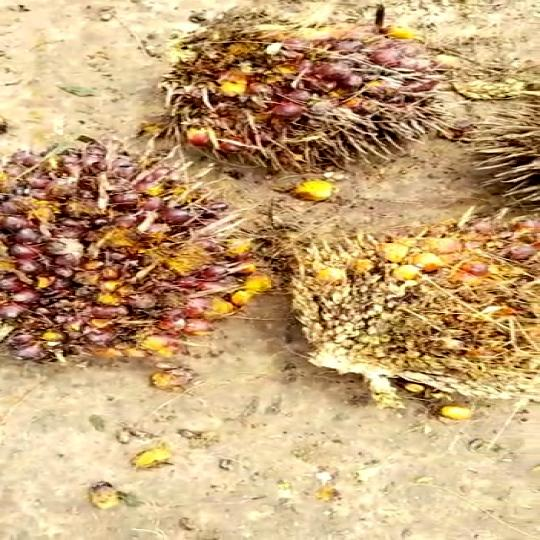masak: (0, 137, 302, 371), (145, 6, 511, 199), (292, 214, 540, 404)
